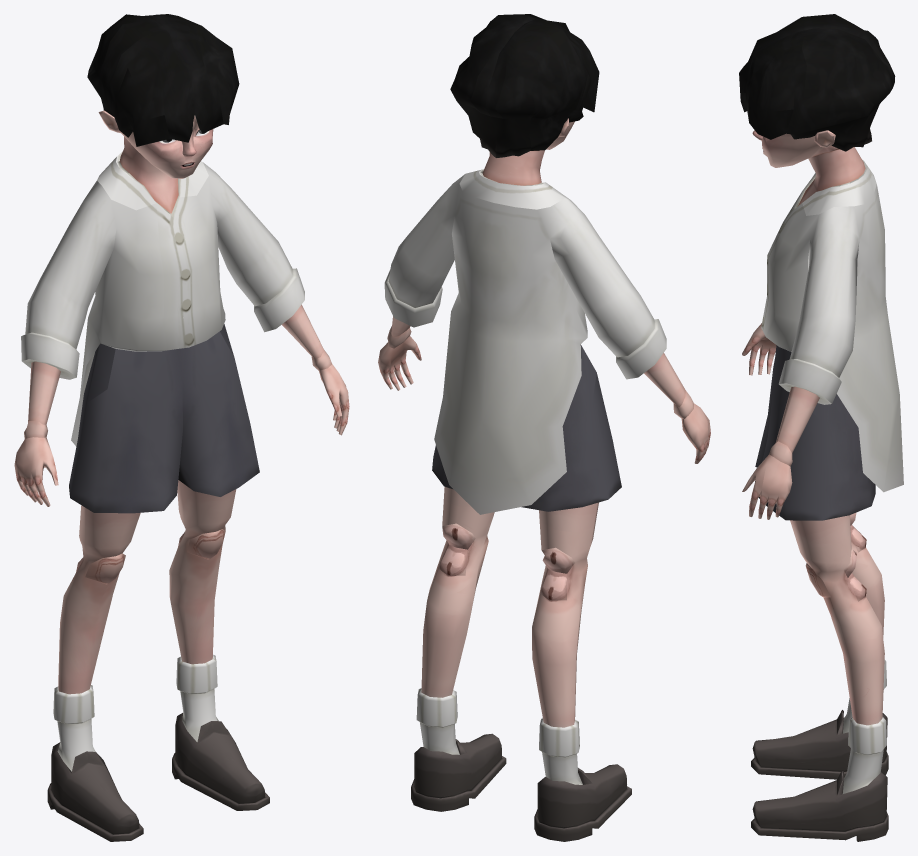
The model's file is SM_CharacterCaleb.fbx.
3 renders of one model, left to right at view 1: azimuth 30°, elevation 25°; view 2: azimuth 150°, elevation 25°; view 3: azimuth 270°, elevation 25°, orthographic.
Parts seen in each view (by area): view 1: SM_CharacterCaleb; view 2: SM_CharacterCaleb; view 3: SM_CharacterCaleb.
Boxes of the visible parts, x1=… form: SM_CharacterCaleb: x1=14, y1=14, x2=349, y2=841; SM_CharacterCaleb: x1=378, y1=14, x2=710, y2=841; SM_CharacterCaleb: x1=739, y1=14, x2=903, y2=841.
Bounding box in the file's own units: 6.65 × 15.22 × 2.95.
Materials: 1 (1 with a texture image).
